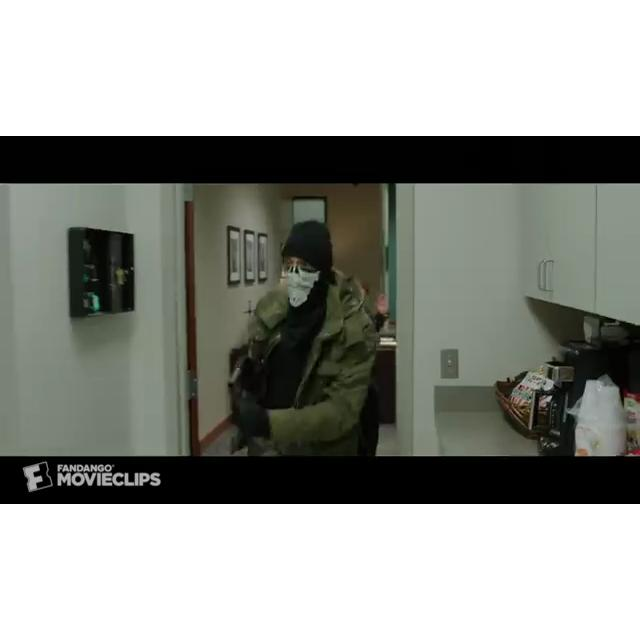criminal: (226, 221, 380, 455)
weapon: (226, 350, 264, 410)
